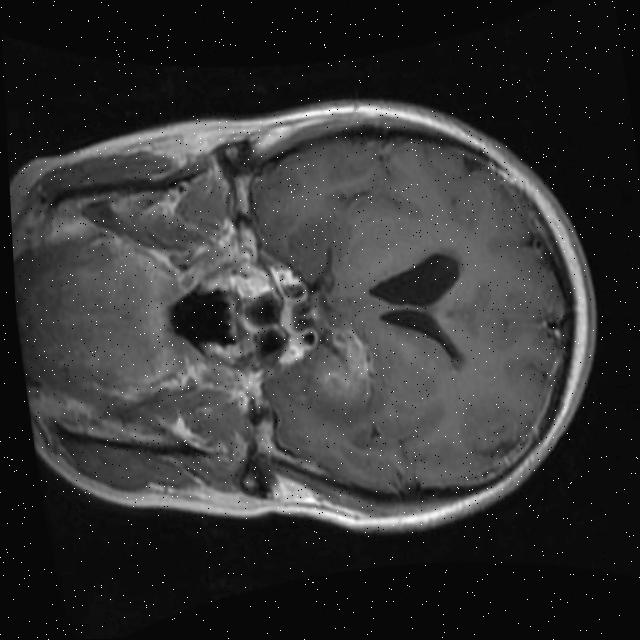Glioma: (305, 323, 381, 422)
